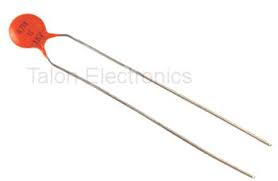ceramic capacitor: (5, 9, 77, 57)
